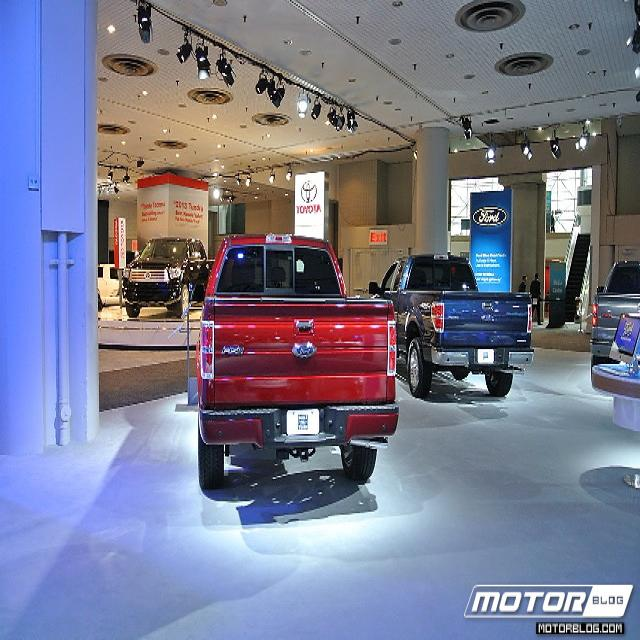Vehicle: (193, 232, 397, 485), (367, 252, 536, 401), (122, 236, 215, 322), (589, 262, 640, 371), (98, 264, 125, 312)
